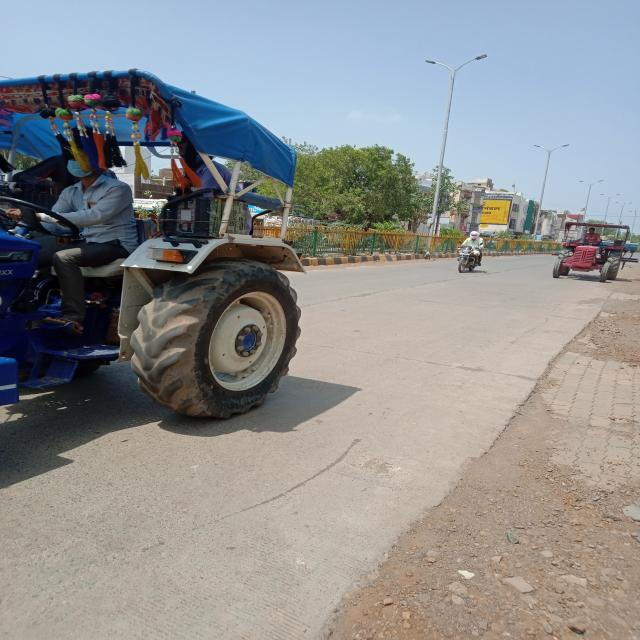Tractor: (1, 45, 325, 439)
